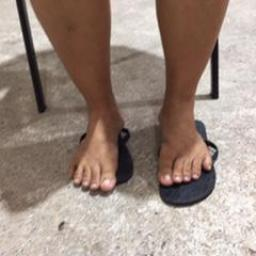Front View -Both Feet-: (59, 64, 224, 204)
